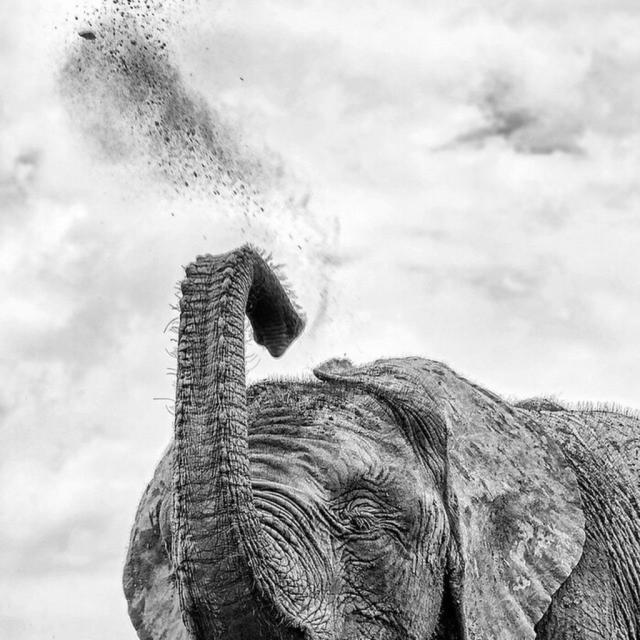elephant: (75, 247, 617, 640)
